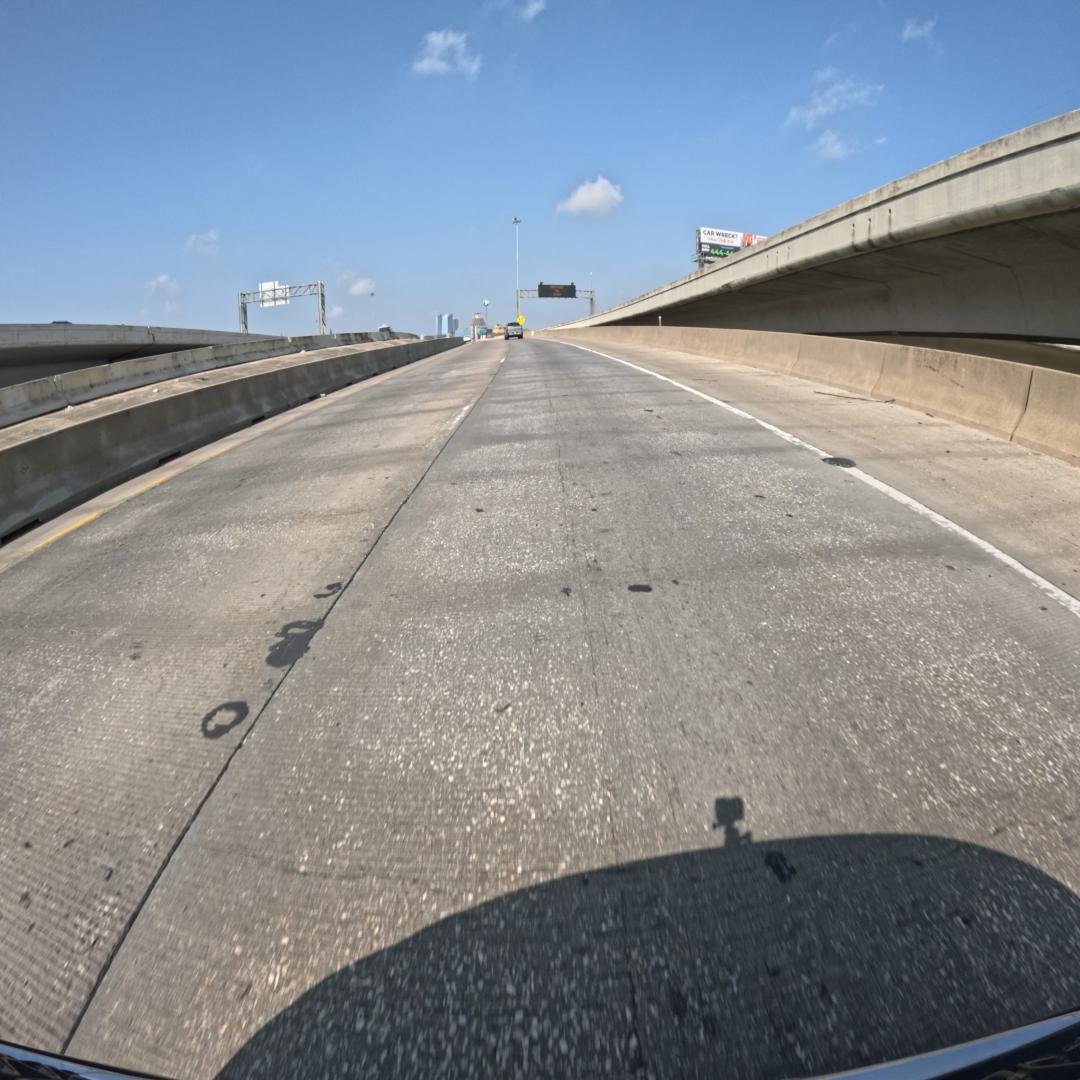lane0: (70, 340, 1080, 1076)
lane1: (0, 340, 506, 1051)
